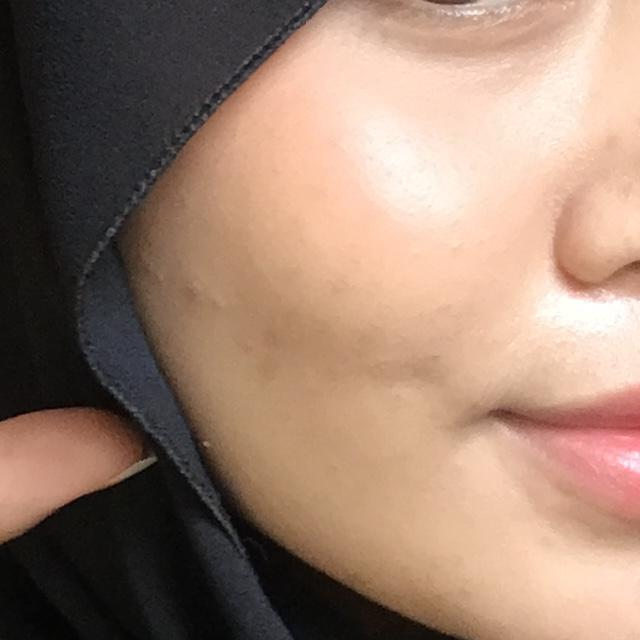mendengar: (0, 0, 340, 640)
